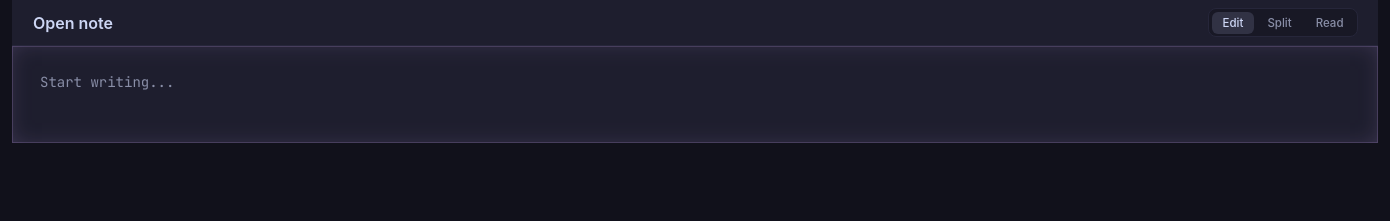
Test: Link autocomplete (#548) › closes when the textarea loses focus
Type "[ [pl" into the text box with class "editor-textarea" at (695, 94), box left=12, top=46, right=1378, bottom=143
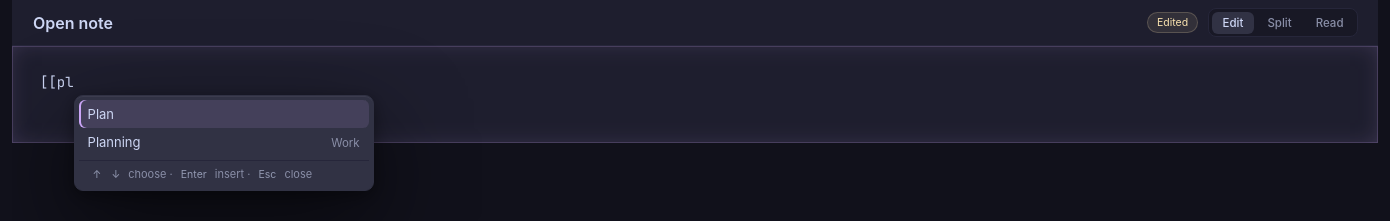
Leave the text box with class "editor-textarea", box left=12, top=46, right=1378, bottom=143
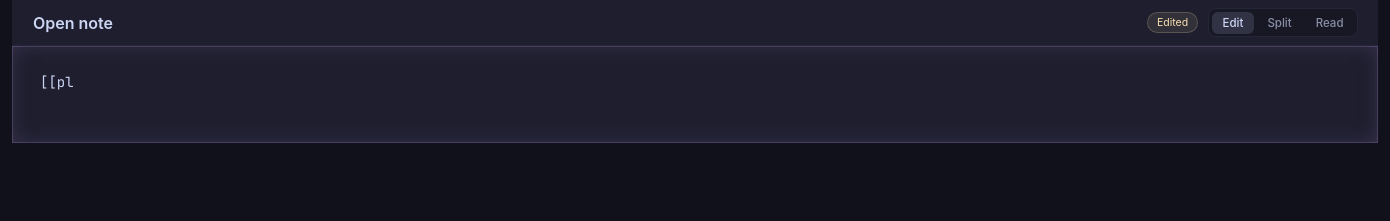
Result: the list is gone
